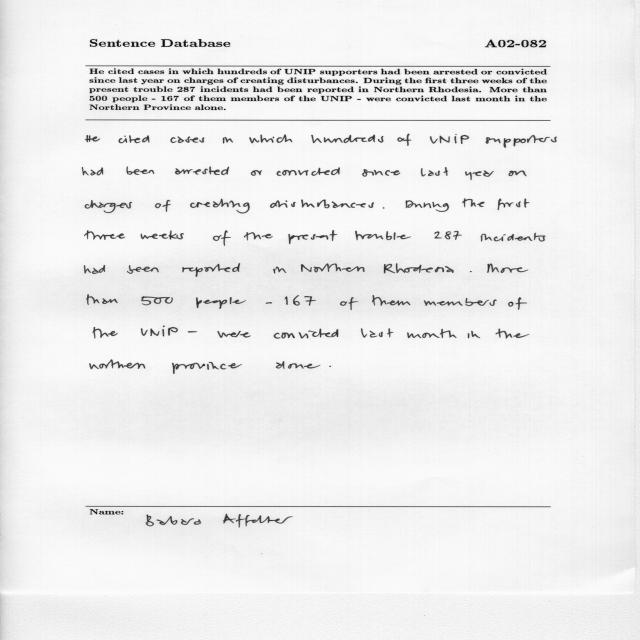word: (485, 135, 557, 148), (270, 200, 374, 209), (190, 199, 250, 214), (172, 362, 242, 374), (182, 263, 240, 277), (384, 264, 454, 274), (289, 231, 338, 245), (274, 329, 338, 339), (85, 200, 132, 213), (196, 297, 246, 309), (481, 233, 546, 242), (424, 298, 497, 306), (311, 135, 383, 143), (276, 167, 340, 176), (301, 264, 365, 273), (406, 200, 449, 212), (355, 231, 411, 240), (90, 360, 145, 369), (407, 329, 457, 338), (175, 167, 229, 175), (372, 295, 411, 306), (487, 263, 528, 273), (141, 326, 178, 337), (85, 230, 125, 240), (430, 134, 469, 144), (250, 135, 293, 144), (141, 231, 184, 240), (276, 361, 321, 369), (498, 199, 529, 210), (285, 295, 316, 306), (496, 329, 530, 339), (361, 328, 393, 338), (87, 295, 118, 305), (362, 169, 400, 177), (465, 171, 494, 181), (213, 230, 231, 246), (127, 265, 159, 274), (141, 297, 173, 306), (93, 327, 118, 338), (244, 232, 273, 241), (434, 231, 462, 240), (119, 136, 150, 144), (340, 297, 359, 310), (508, 297, 527, 310), (421, 167, 448, 176), (217, 331, 251, 338), (127, 167, 154, 175), (171, 137, 205, 143), (155, 200, 171, 212), (84, 265, 105, 274), (462, 199, 484, 207), (398, 134, 412, 146), (83, 167, 104, 175), (509, 171, 527, 177), (85, 135, 100, 142), (273, 267, 286, 274), (468, 331, 480, 338), (223, 137, 233, 144), (251, 170, 262, 176), (188, 331, 197, 333), (266, 302, 272, 304), (383, 207, 384, 209), (470, 271, 472, 272), (329, 366, 331, 367)
